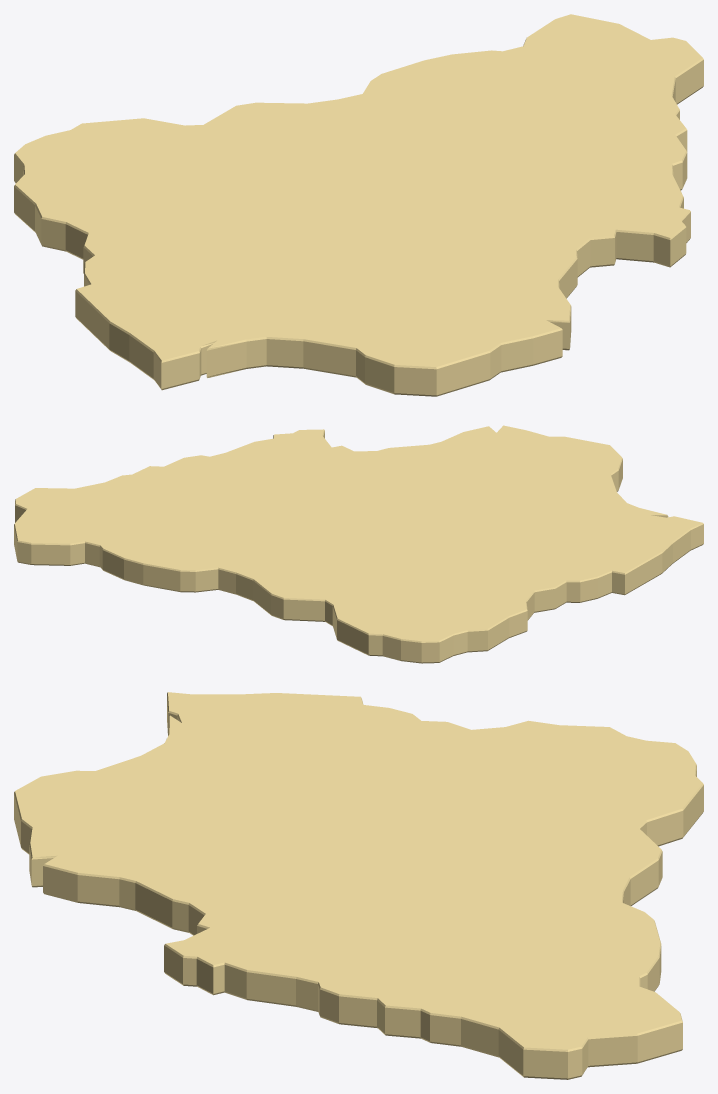
Rendered from NGA.glb.
3 renders of one model, top to bottom at view 1: azimuth 30°, elevation 25°; view 2: azimuth 150°, elevation 25°; view 3: azimuth 270°, elevation 25°, orthographic. The views are drawn at different scales.
Bounding box in the file's own units: 1.73 × 0.068 × 1.41.
